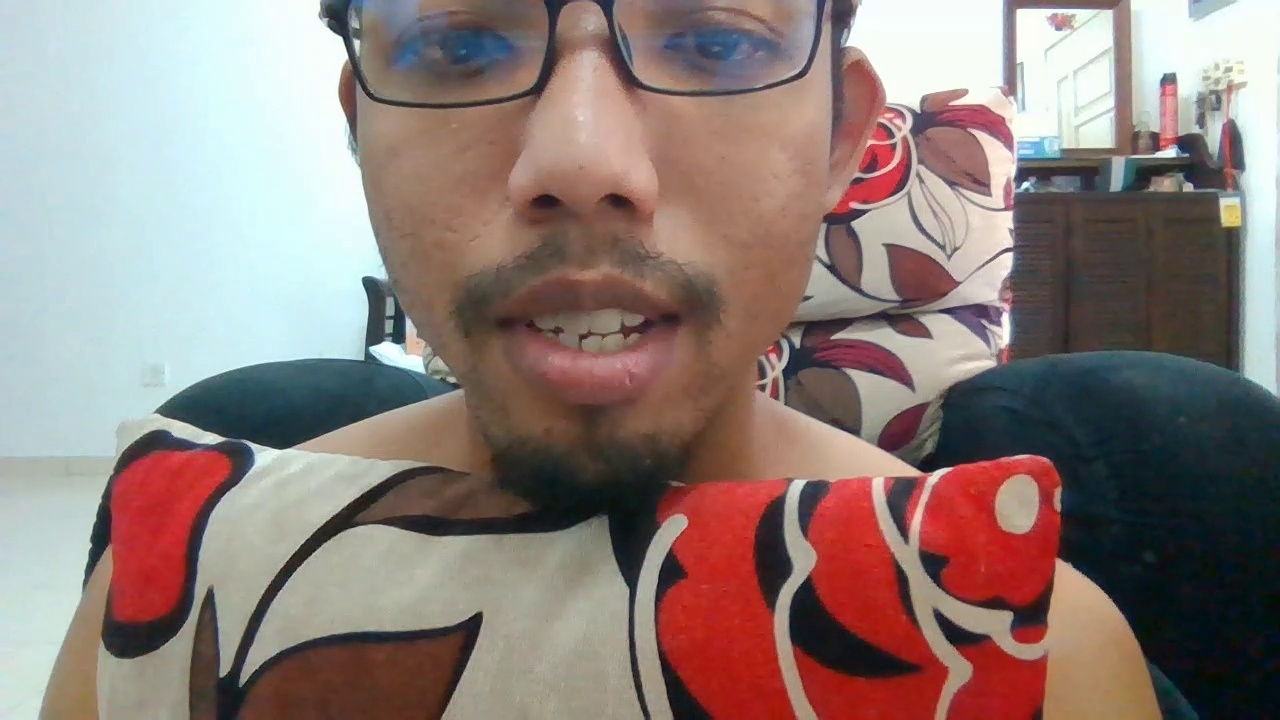Canine: (624, 330, 643, 348)
Central Incisor: (588, 307, 622, 334), (557, 309, 588, 334), (558, 332, 579, 350), (580, 335, 602, 351)
Lateral Incisor: (533, 311, 557, 329), (622, 310, 646, 327), (602, 334, 624, 352)
